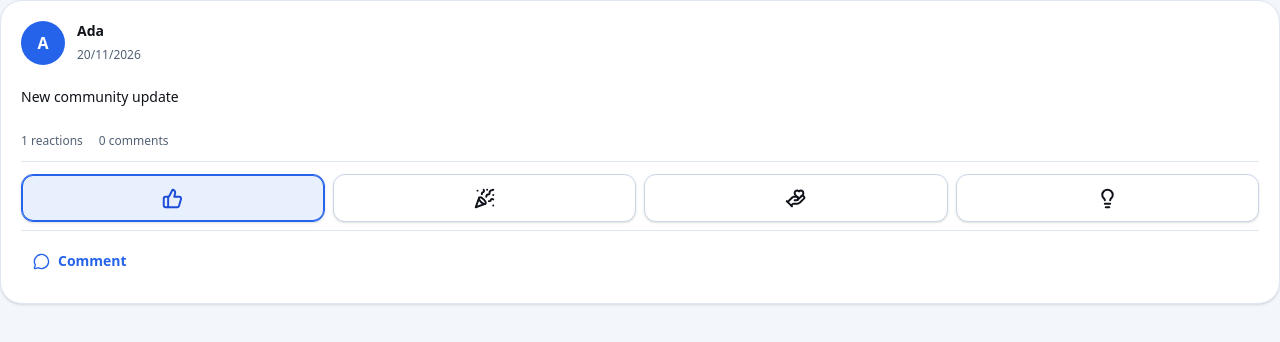
Test: mobile social reaction controls › shows server errors without falsely changing the saved reaction
This screenshot has width=1280, height=342.
Click the button named "Support" at (796, 198), box x1=644 y1=174 x2=948 y2=222
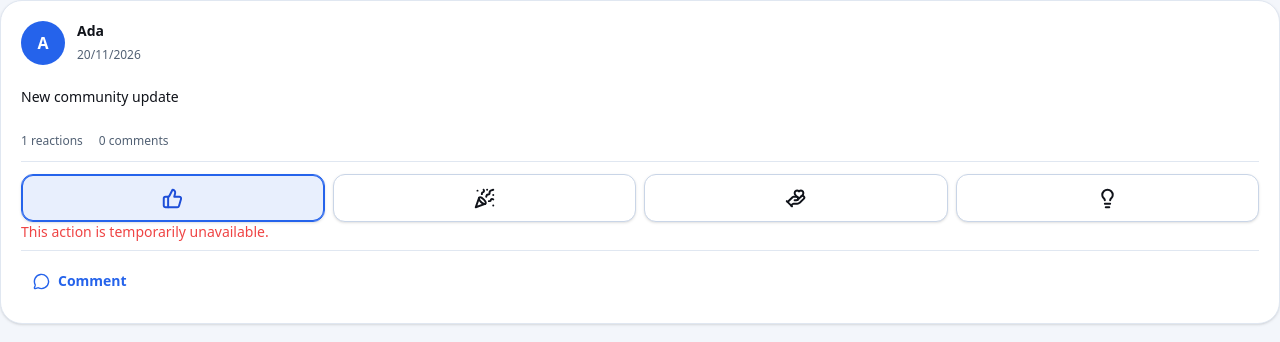
expect the text with test id "reaction-count" reads "1 reactions": met, box x1=21 y1=133 x2=83 y2=149
expect the message shows "temporarily unavailable": met, box x1=21 y1=222 x2=269 y2=241
